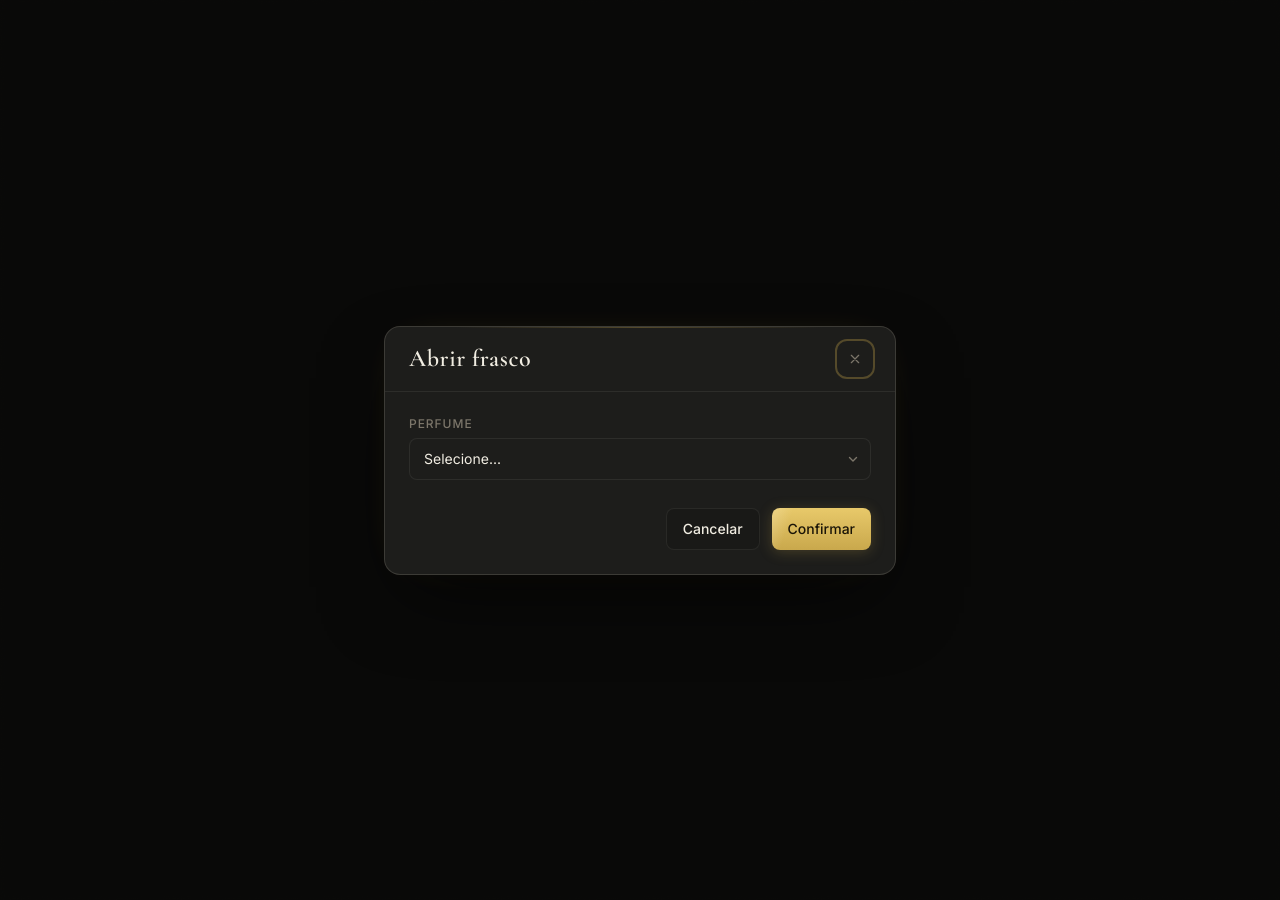
Test: AbrirFrascoModal › mostra o volume ao selecionar produto
Select "Asad" in the dropdown at (640, 458), box [409, 438, 871, 480]
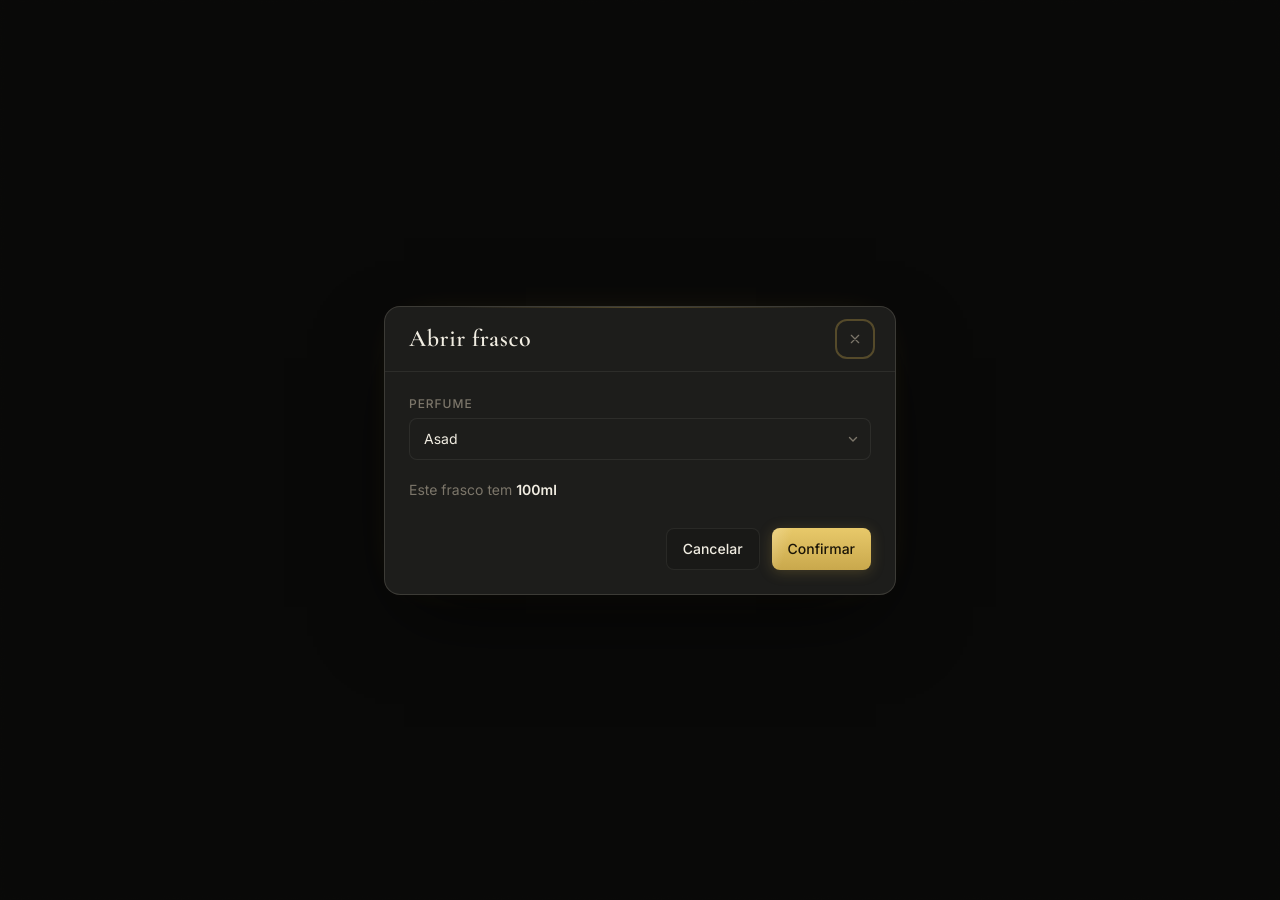
Check: the text "100ml" is shown, box [516, 480, 557, 498]
